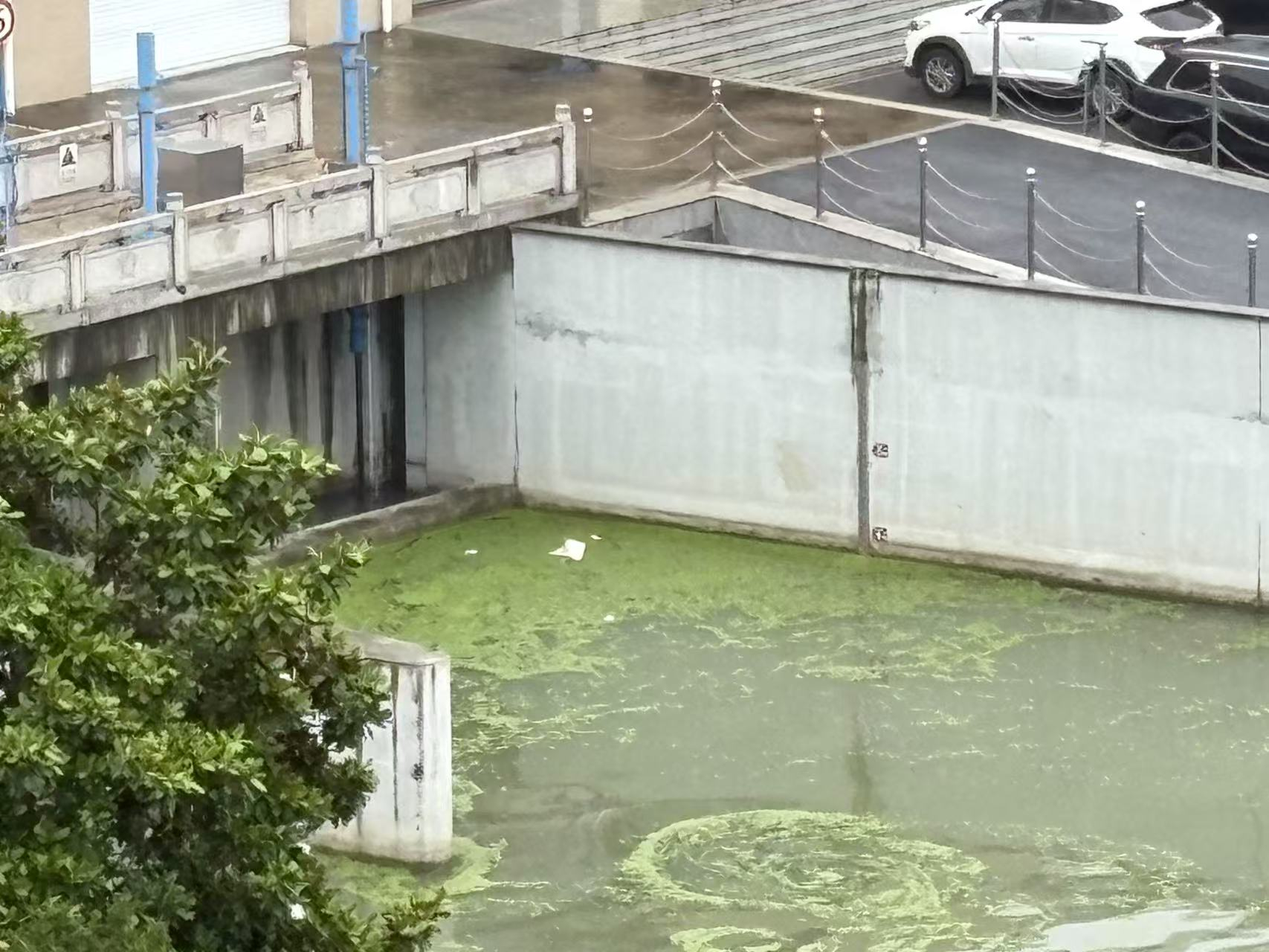Other: (638, 814, 1034, 951), (613, 519, 795, 606), (427, 574, 598, 664), (804, 560, 964, 621)
Plastic wastes: (552, 534, 587, 562), (459, 541, 480, 555), (590, 528, 607, 542), (606, 614, 616, 623)
